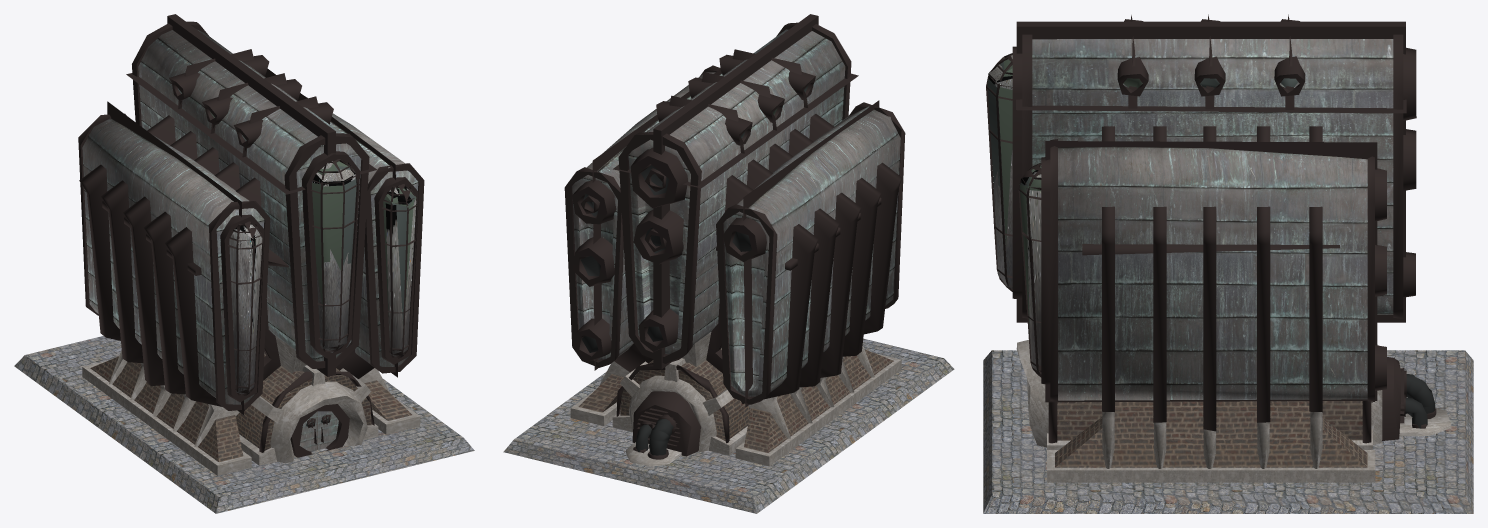
Rendered from steamtower.fbx.
The picture shows the model from 3 angles, left to right: view 1: azimuth 30°, elevation 25°; view 2: azimuth 150°, elevation 25°; view 3: azimuth 270°, elevation 25°; orthographic projection. The views are drawn at different scales.
Parts seen in each view (by area): view 1: polySurface318; view 2: polySurface318; view 3: polySurface318.
Part boxes in pixels (box(x1,y1,x2,y2)): polySurface318: box(14, 14, 474, 513); polySurface318: box(503, 14, 954, 513); polySurface318: box(983, 14, 1473, 513).
Bounding box in the file's own units: 9.19 × 11.53 × 12.41.
